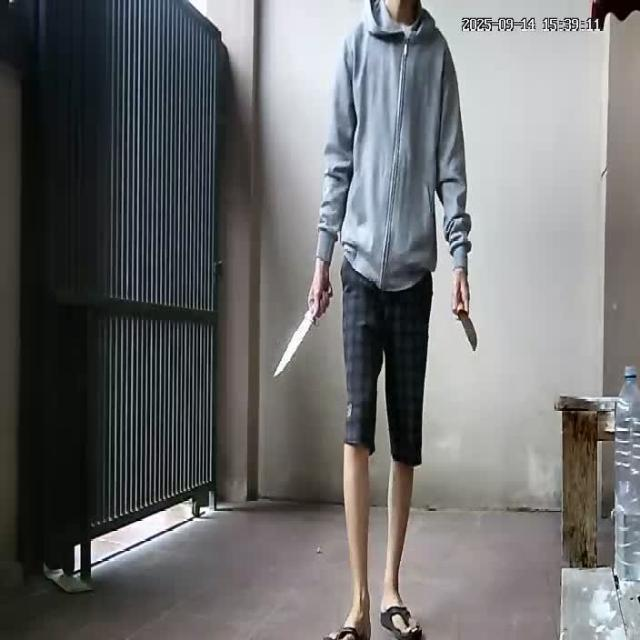senjata_tajam: (270, 306, 313, 382), (456, 307, 480, 352)
